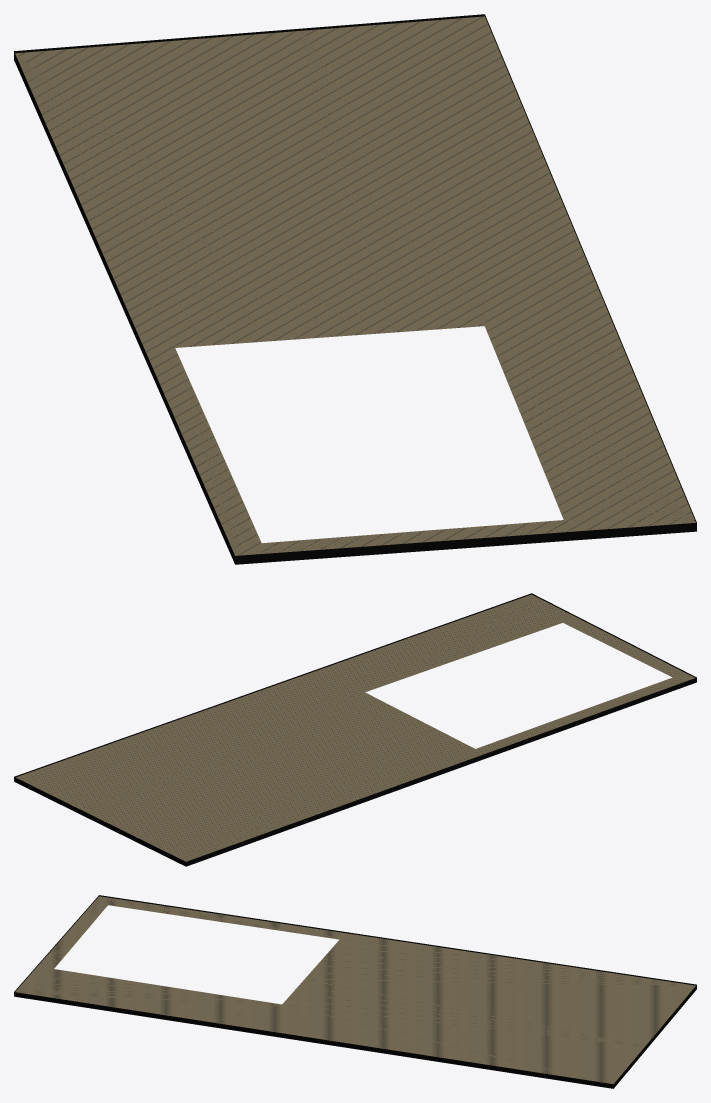
The model's file is Building_05_Rooftop.fbx.
The picture shows the model from 3 angles, top to bottom: view 1: azimuth 30°, elevation 25°; view 2: azimuth 150°, elevation 25°; view 3: azimuth 270°, elevation 25°; orthographic projection. The views are drawn at different scales.
Parts seen in each view (by area): view 1: Building_05_Rooftop; view 2: Building_05_Rooftop; view 3: Building_05_Rooftop.
Boxes of the visible parts, bbox=[...] form: Building_05_Rooftop: bbox=[14, 14, 696, 564]; Building_05_Rooftop: bbox=[14, 593, 696, 866]; Building_05_Rooftop: bbox=[14, 895, 696, 1088].
Bounding box in the file's own units: 32.67 × 0.3724 × 49.85.
1 material, 1 textured.
